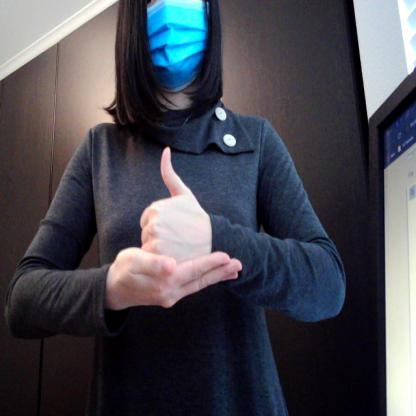help: (105, 148, 253, 316)
